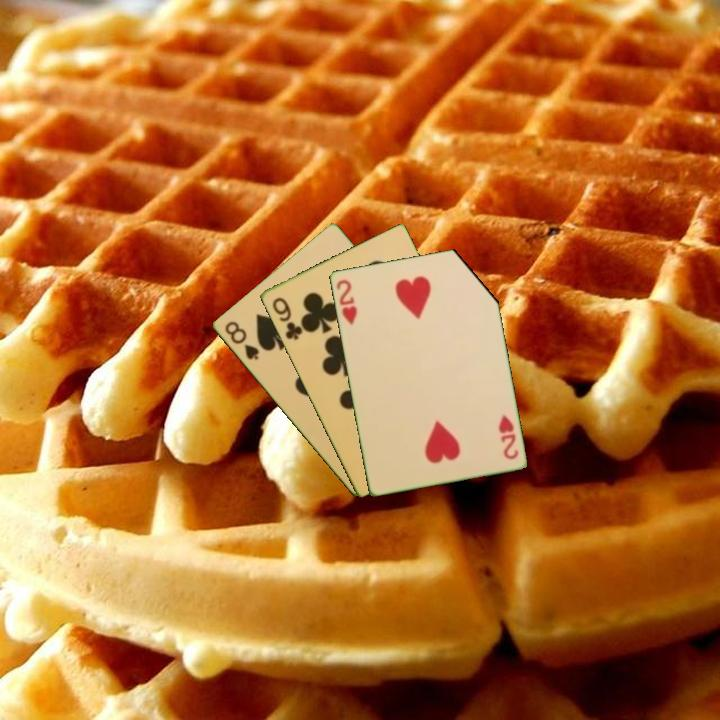2h: (333, 276, 360, 328), (494, 411, 521, 462)
8s: (221, 317, 262, 363)
9c: (268, 294, 305, 343)
